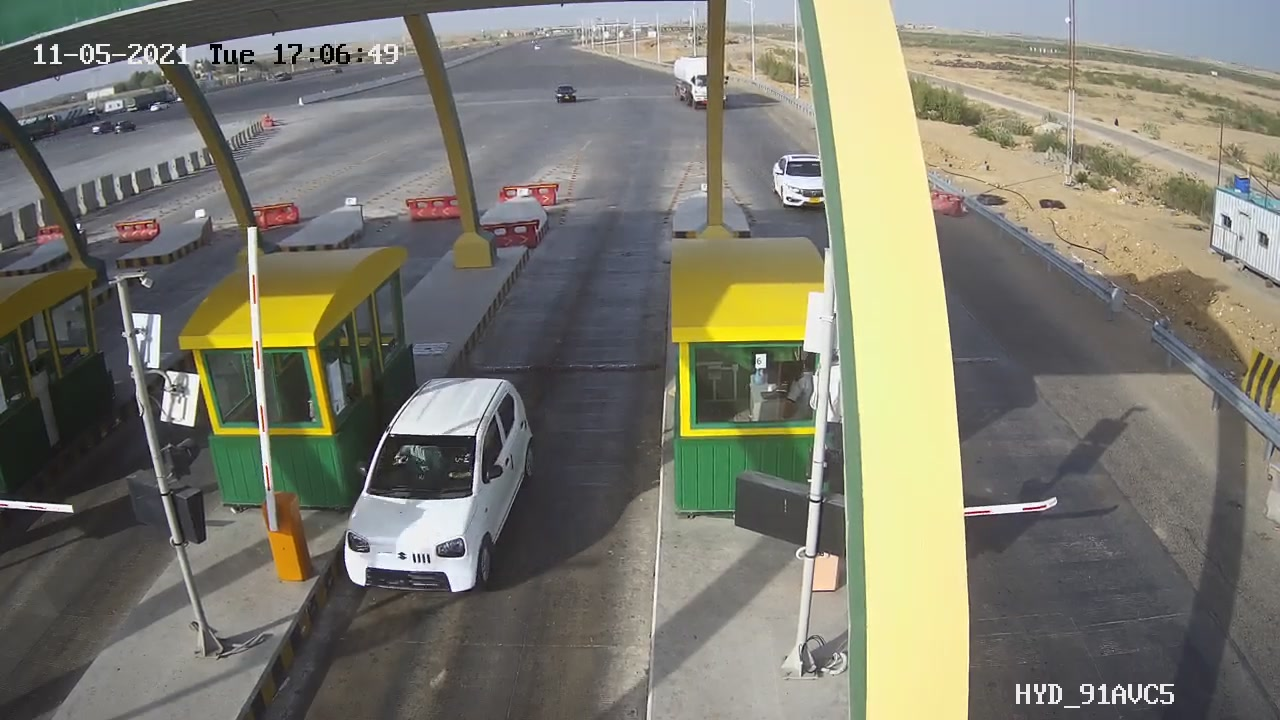F1: (324, 364, 550, 611)
